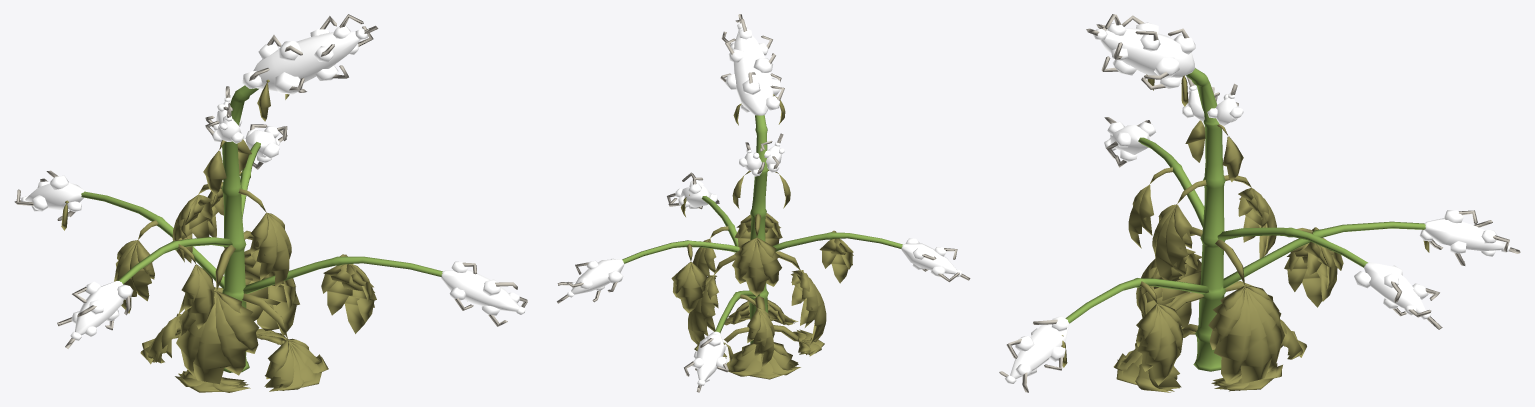
The model's file is plant_flowering_dry.glb.
3 views of the same model, side by side, from view 1: azimuth 30°, elevation 25°; view 2: azimuth 150°, elevation 25°; view 3: azimuth 270°, elevation 25° (orthographic). The views are drawn at different scales.
Visible parts, largest first — view 1: Leaves, Buds; view 2: Leaves, Buds; view 3: Leaves, Buds.
Boxes of the visible parts, x1=… form: Leaves: x1=61, y1=79, x2=442, y2=392; Buds: x1=14, y1=14, x2=527, y2=348; Leaves: x1=622, y1=94, x2=902, y2=379; Buds: x1=557, y1=14, x2=970, y2=392; Leaves: x1=1061, y1=68, x2=1429, y2=392; Buds: x1=999, y1=14, x2=1520, y2=392.
Size of the model in its own units: 1.06 by 0.8815 by 1.08.
